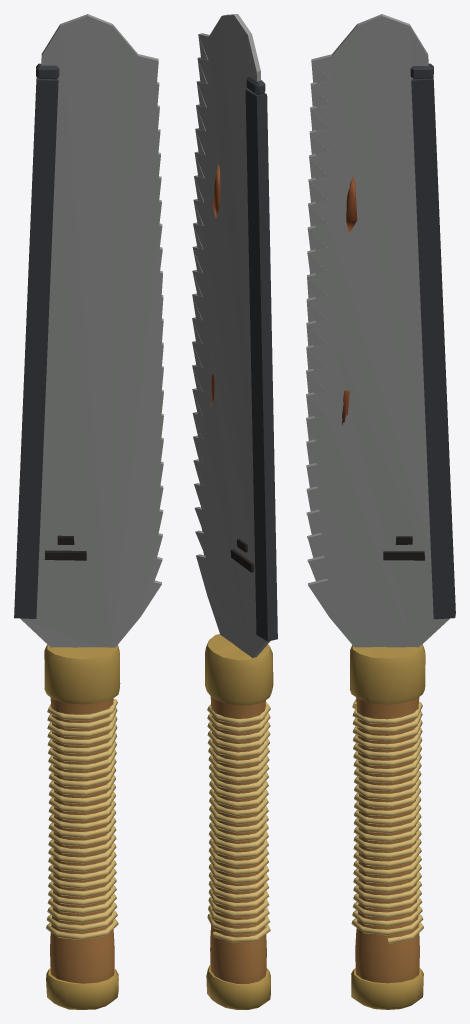
File: tool_handsaw.fbx
3 views of the same model, side by side, from view 1: azimuth 90°, elevation 25°; view 2: azimuth 210°, elevation 25°; view 3: azimuth 270°, elevation 25° (orthographic).
Parts seen in each view (by area): view 1: Tool_HandSaw_Blade, Tool_HandSaw_Spine, Tool_HandSaw_Wrap, Tool_HandSaw_Handle, Tool_HandSaw_Brass; view 2: Tool_HandSaw_Blade, Tool_HandSaw_Spine, Tool_HandSaw_Wrap, Tool_HandSaw_Handle, Tool_HandSaw_Brass; view 3: Tool_HandSaw_Blade, Tool_HandSaw_Spine, Tool_HandSaw_Wrap, Tool_HandSaw_Handle, Tool_HandSaw_Brass.
Boxes of the visible parts, <box> form: Tool_HandSaw_Blade: <box>20,14,163,647</box>; Tool_HandSaw_Spine: <box>14,63,86,618</box>; Tool_HandSaw_Wrap: <box>46,699,118,939</box>; Tool_HandSaw_Handle: <box>50,697,114,983</box>; Tool_HandSaw_Brass: <box>44,644,120,1009</box>; Tool_HandSaw_Blade: <box>192,14,270,657</box>; Tool_HandSaw_Spine: <box>210,76,277,641</box>; Tool_HandSaw_Wrap: <box>207,702,270,942</box>; Tool_HandSaw_Handle: <box>210,696,266,983</box>; Tool_HandSaw_Brass: <box>205,634,273,1009</box>; Tool_HandSaw_Blade: <box>306,14,449,647</box>; Tool_HandSaw_Spine: <box>342,63,455,619</box>; Tool_HandSaw_Wrap: <box>351,699,423,943</box>; Tool_HandSaw_Handle: <box>355,697,419,983</box>; Tool_HandSaw_Brass: <box>350,644,425,1009</box>.
Size of the model in its own units: 4.81 by 78.62 by 10.84.
